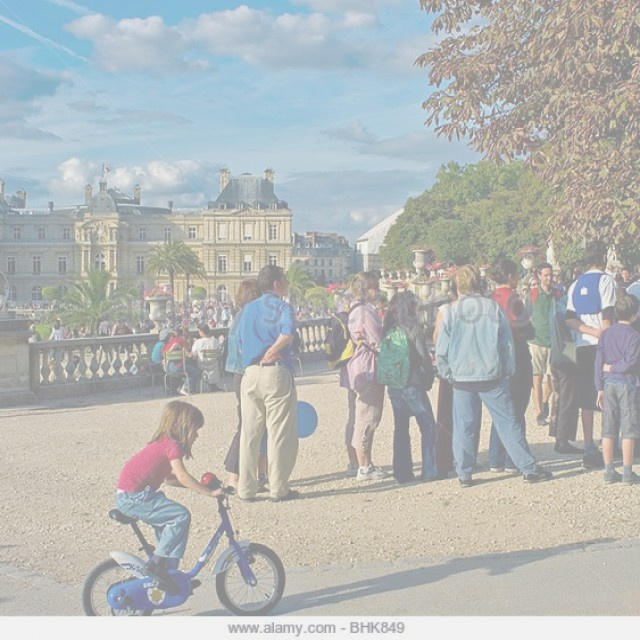pessoa: (431, 258, 557, 490), (109, 394, 231, 600), (234, 263, 301, 504), (373, 283, 448, 486), (324, 267, 392, 482), (477, 254, 539, 478), (565, 235, 622, 470), (332, 266, 390, 478), (430, 278, 484, 473), (590, 289, 639, 488), (218, 276, 260, 492), (549, 292, 604, 456), (520, 261, 566, 428), (188, 321, 228, 391), (162, 328, 196, 397), (170, 298, 220, 328), (150, 327, 173, 390), (47, 320, 67, 364), (296, 297, 334, 320), (557, 262, 582, 290), (518, 260, 536, 296), (47, 318, 66, 342), (616, 266, 634, 290), (626, 264, 639, 296), (120, 298, 149, 312), (134, 310, 152, 332), (66, 326, 78, 357), (112, 318, 134, 334), (95, 316, 112, 336), (28, 322, 44, 342), (76, 322, 93, 339), (525, 275, 541, 292), (156, 310, 170, 328), (2, 300, 26, 310), (220, 305, 230, 328), (183, 328, 194, 345), (604, 262, 616, 276), (60, 318, 70, 334), (38, 300, 54, 310), (228, 303, 236, 320), (27, 295, 34, 314), (219, 297, 233, 306)
